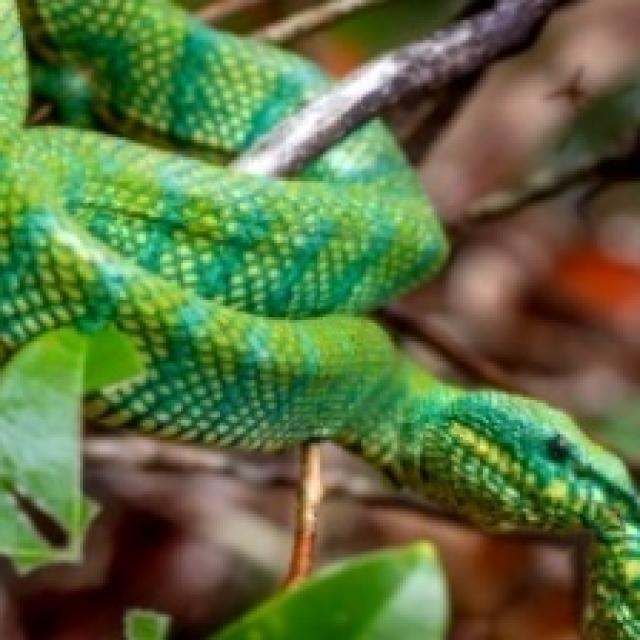north ph temple pitviper: (0, 0, 637, 637), (37, 3, 323, 151)
